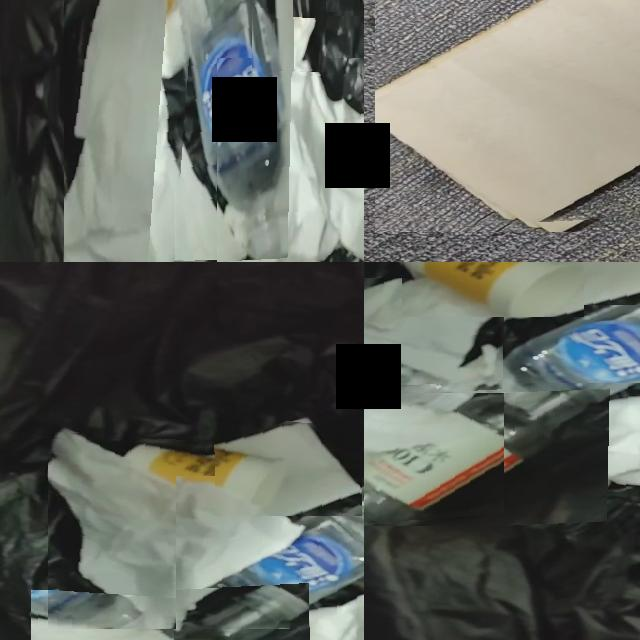bottle: (364, 393, 595, 523), (176, 488, 364, 633), (185, 0, 287, 258), (162, 590, 311, 640)
carton: (375, 0, 640, 225)
dixie_cup: (125, 440, 285, 506), (402, 262, 584, 317)
paper: (48, 433, 298, 629), (64, 0, 186, 262), (217, 58, 364, 262), (364, 278, 504, 389), (215, 422, 362, 516), (504, 398, 640, 488), (252, 0, 322, 72), (274, 0, 322, 71), (564, 262, 640, 305)
